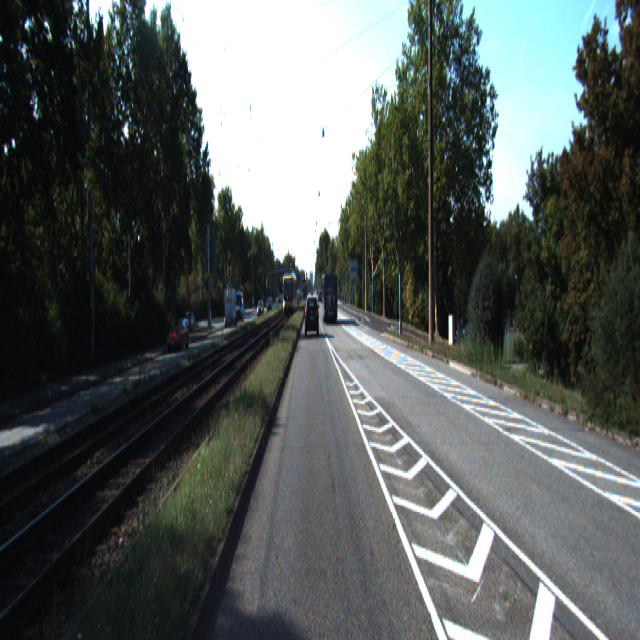Car: (322, 272, 338, 324), (167, 317, 189, 353), (305, 296, 319, 339)
